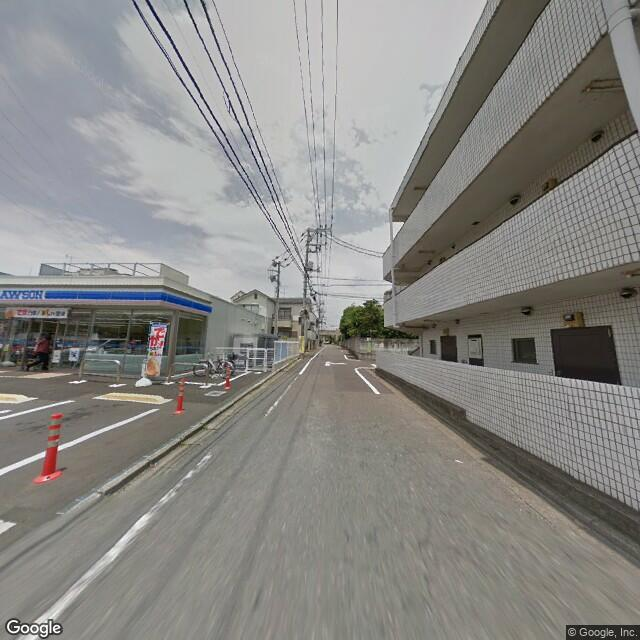lawson: (1, 280, 215, 317)
